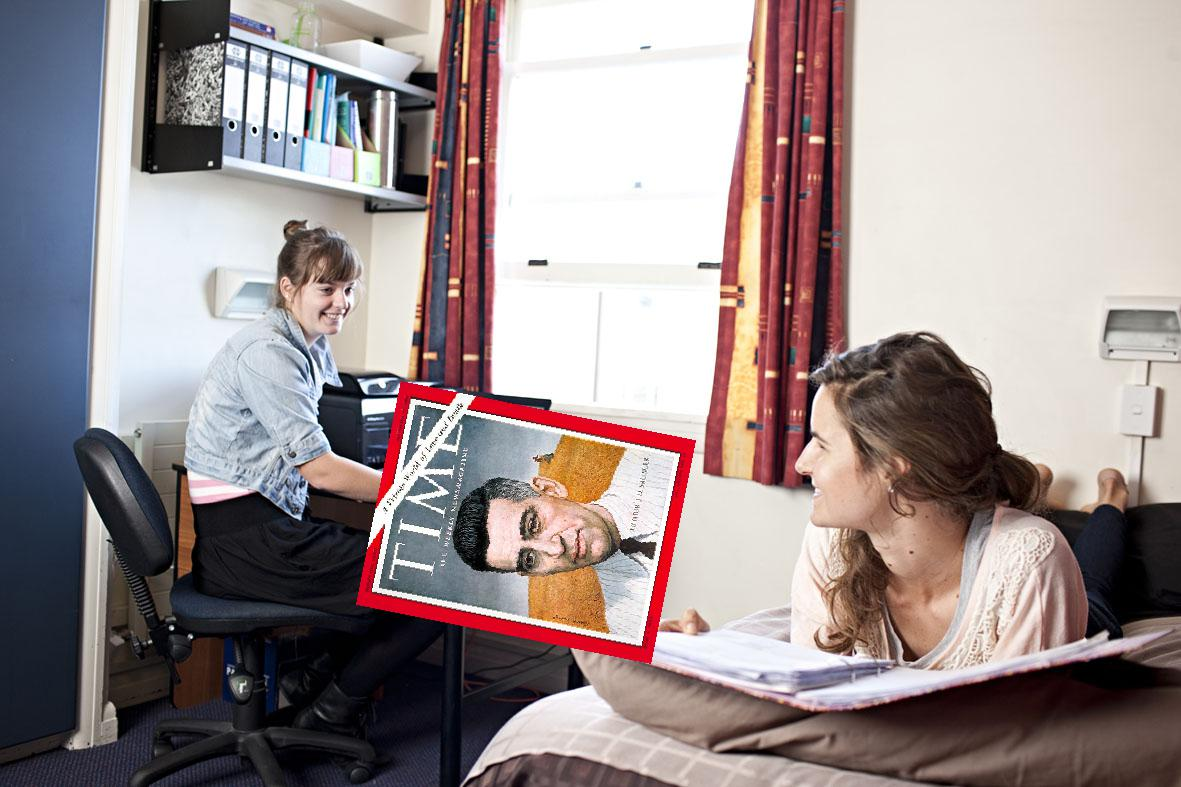times: (352, 378, 701, 670)
